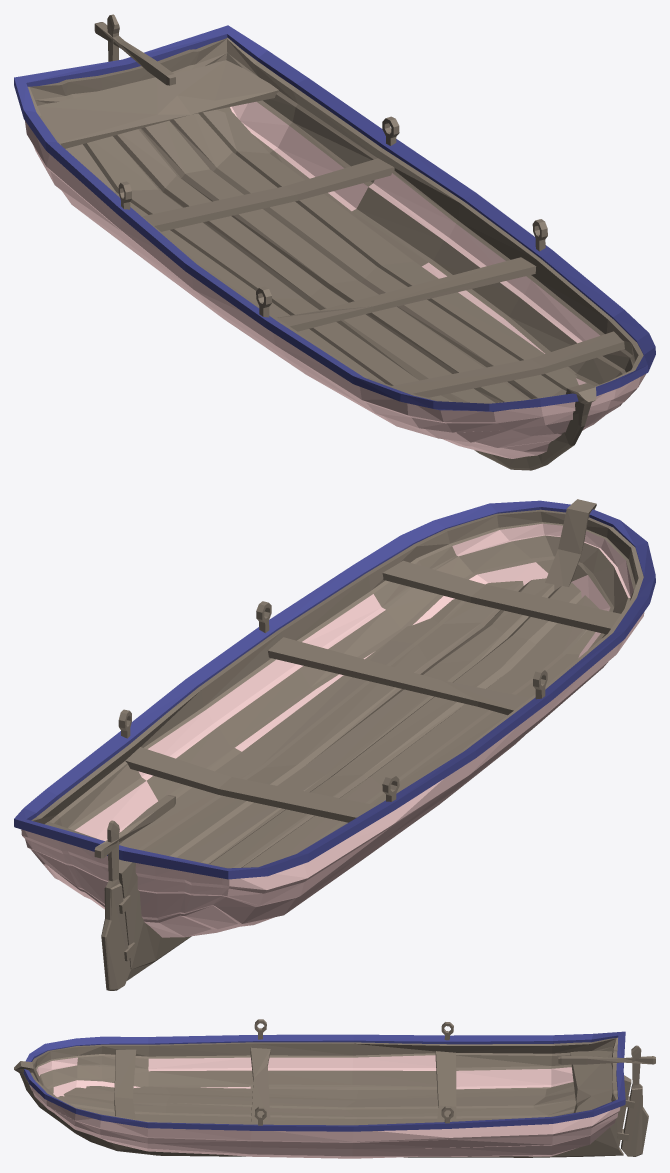
The model's file is SM_Veh_Boat_Small_01_Hull.glb.
3 views of the same model, one above another, from view 1: azimuth 30°, elevation 25°; view 2: azimuth 150°, elevation 25°; view 3: azimuth 270°, elevation 25° (orthographic). The views are drawn at different scales.
Parts seen in each view (by area): view 1: SM_Veh_Boat_Small_01_Hull_00; view 2: SM_Veh_Boat_Small_01_Hull_00; view 3: SM_Veh_Boat_Small_01_Hull_00.
Boxes of the visible parts, <box> form: SM_Veh_Boat_Small_01_Hull_00: <box>14,14,655,470</box>; SM_Veh_Boat_Small_01_Hull_00: <box>14,499,655,990</box>; SM_Veh_Boat_Small_01_Hull_00: <box>14,1019,655,1158</box>.
Size of the model in its own units: 2.88 by 1.63 by 8.5.
1 material, 1 textured.
